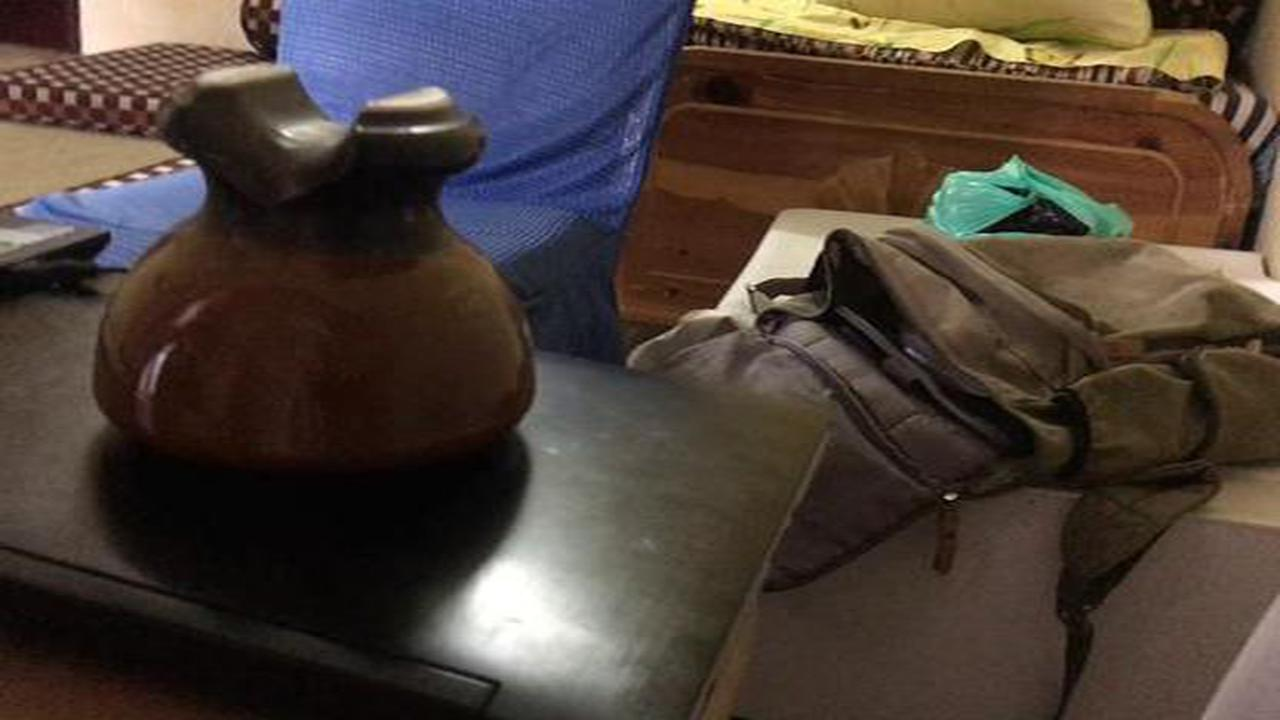insulator_pin: (82, 40, 557, 504)
